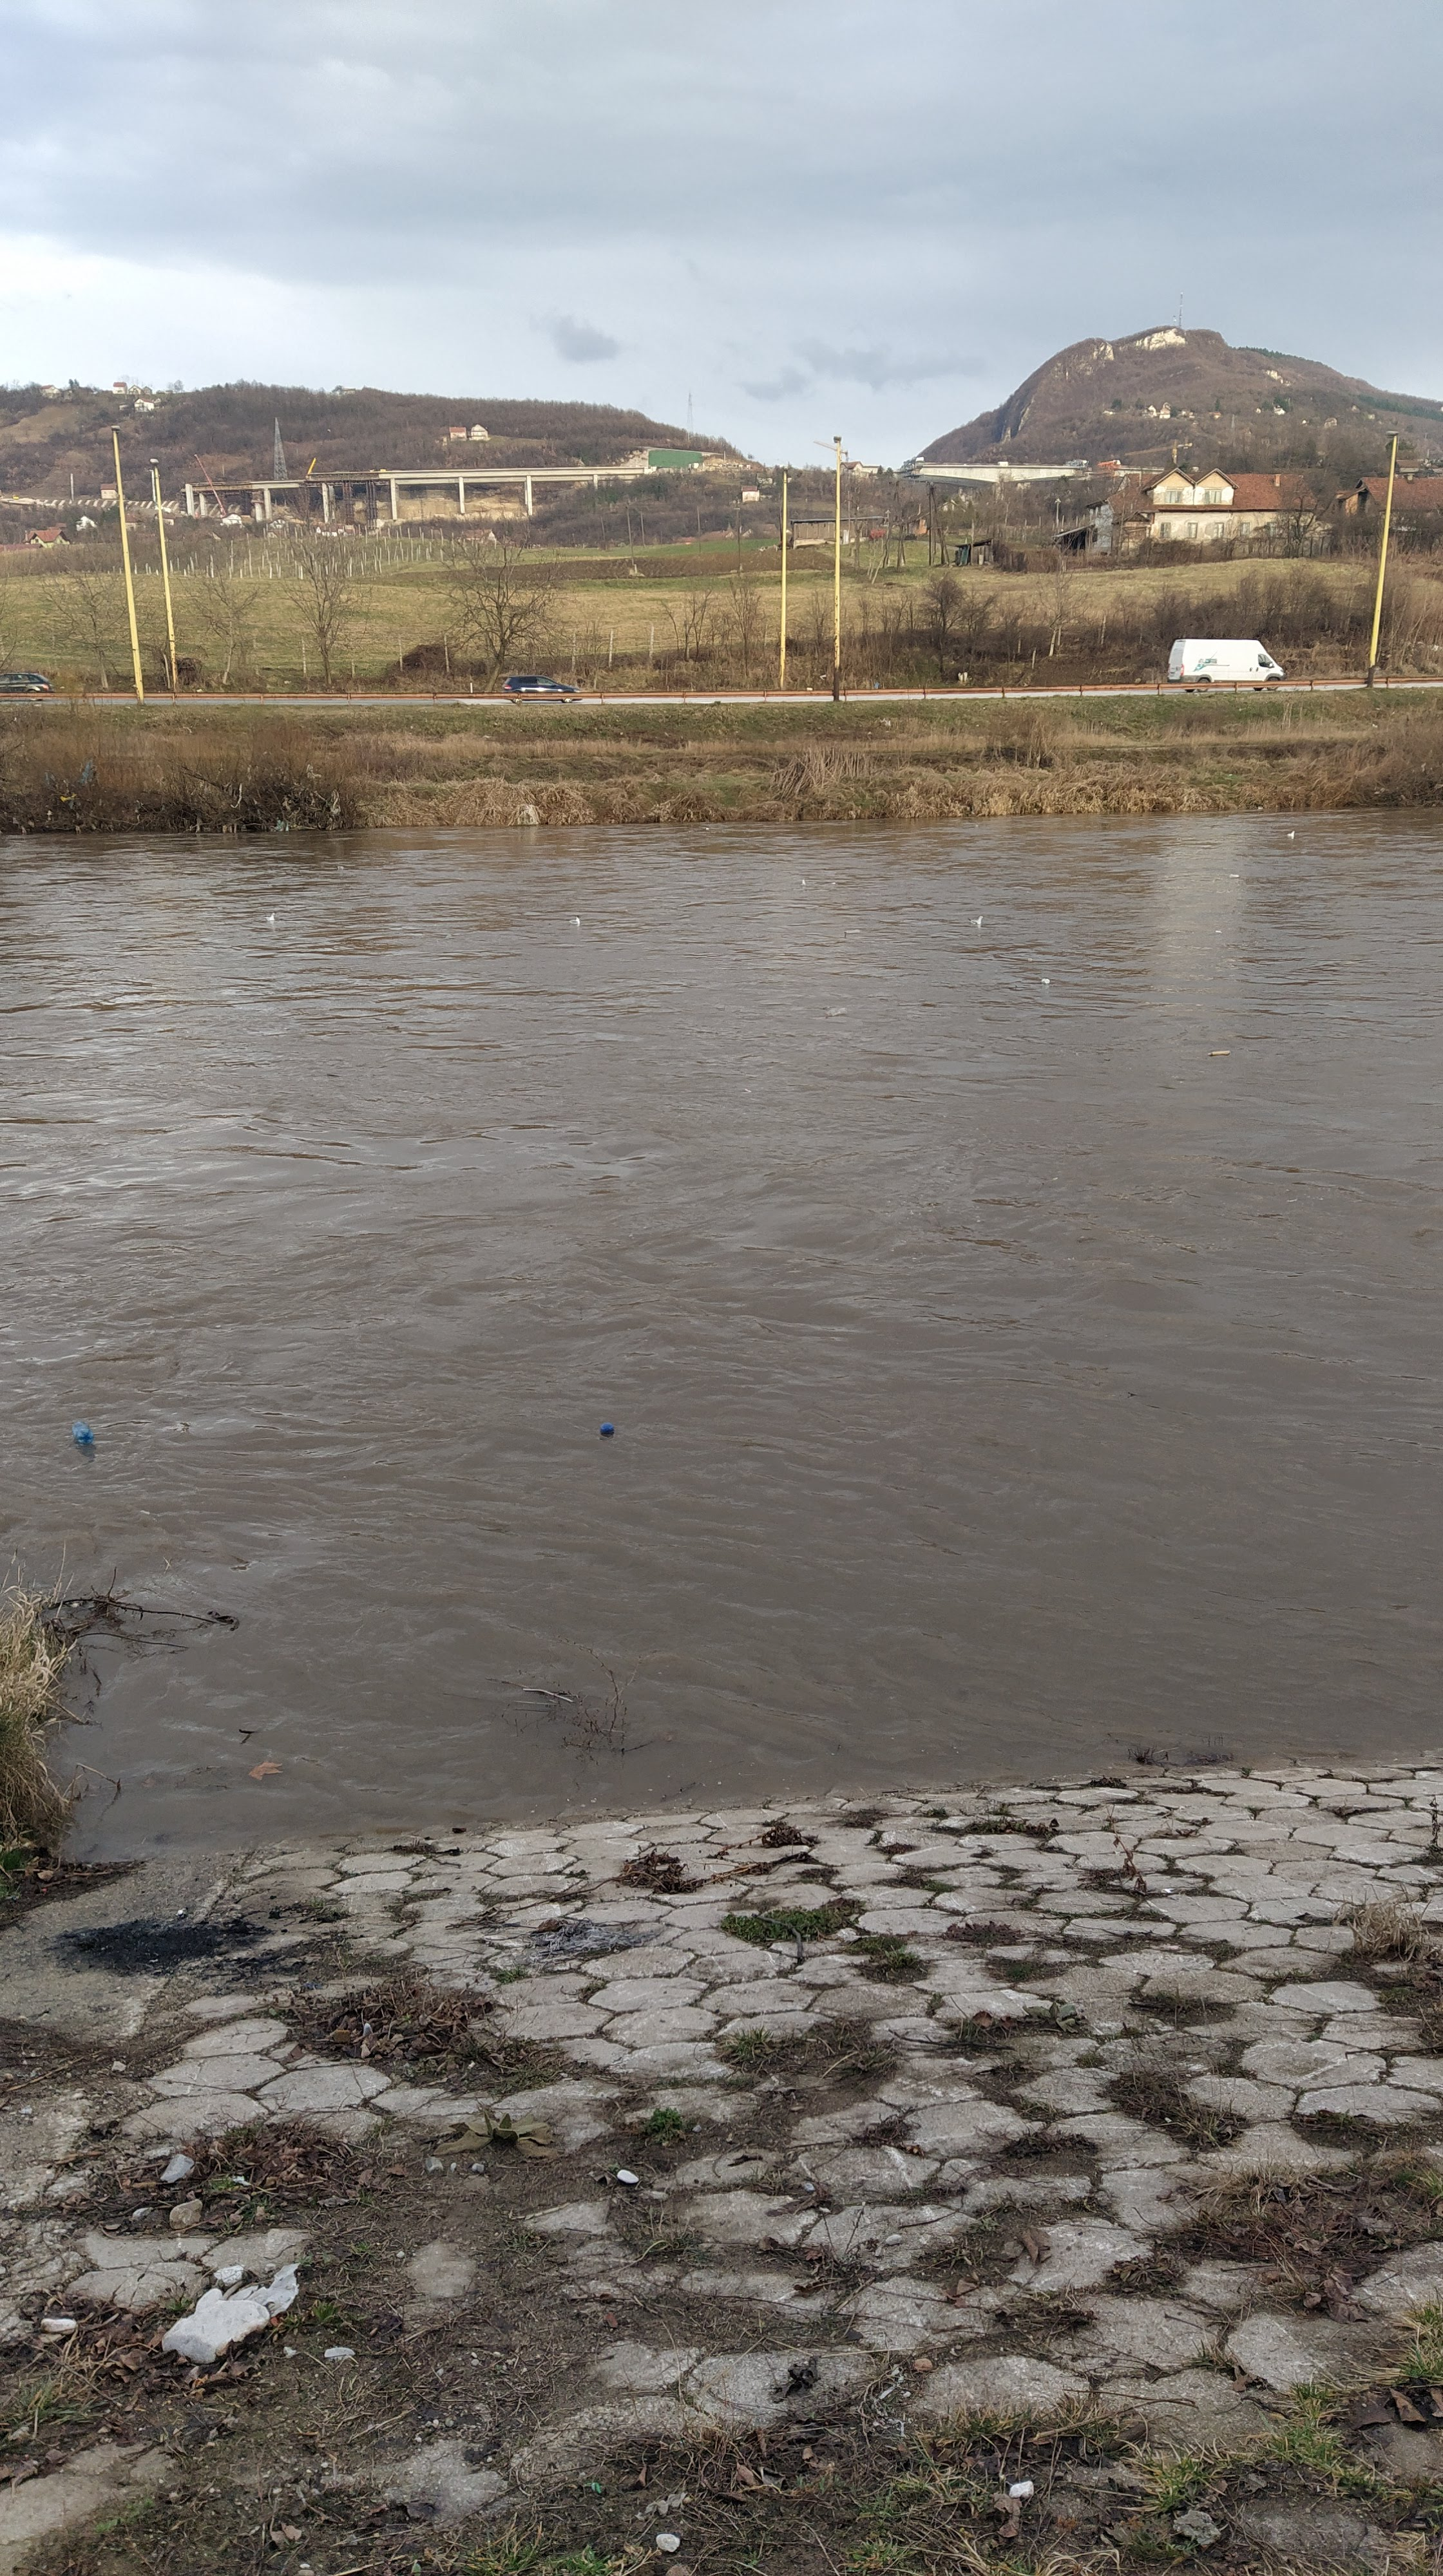Plastic Bottle: (73, 1421, 94, 1445), (825, 1007, 846, 1016), (600, 1421, 614, 1433), (1209, 1049, 1231, 1056), (845, 929, 860, 932), (1041, 978, 1048, 984), (1231, 874, 1239, 878), (336, 865, 343, 869)
